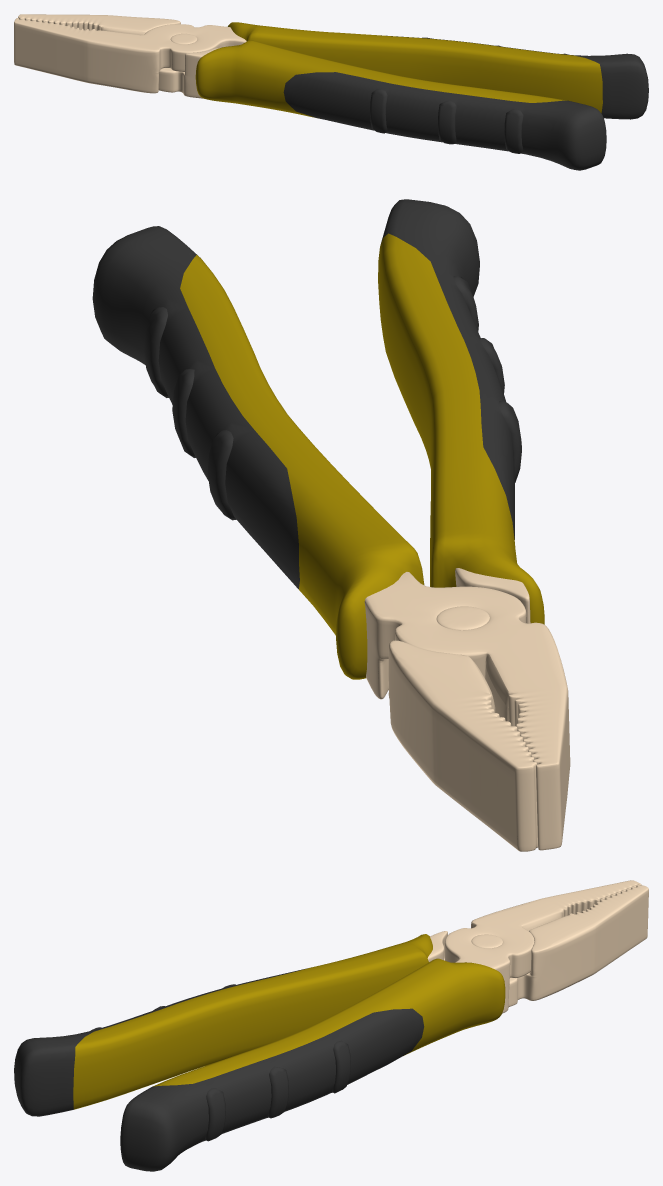
File: Pinces.fbx
The picture shows the model from 3 angles, top to bottom: view 1: azimuth 30°, elevation 25°; view 2: azimuth 150°, elevation 25°; view 3: azimuth 270°, elevation 25°; orthographic projection. The views are drawn at different scales.
Parts seen in each view (by area): view 1: handle_r, handel_l, metal_l, metal_r; view 2: handel_l, handle_r, metal_l, metal_r; view 3: handel_l, handle_r, metal_r, metal_l.
Boxes of the visible parts, bbox=[...] form: handle_r: bbox=[195, 40, 606, 170]; handel_l: bbox=[227, 22, 648, 119]; metal_l: bbox=[14, 18, 246, 93]; metal_r: bbox=[18, 14, 219, 98]; handel_l: bbox=[92, 226, 424, 679]; handle_r: bbox=[378, 199, 544, 624]; metal_l: bbox=[364, 572, 570, 850]; metal_r: bbox=[388, 568, 537, 851]; handel_l: bbox=[120, 958, 505, 1171]; handle_r: bbox=[14, 934, 432, 1116]; metal_r: bbox=[427, 885, 648, 1006]; metal_l: bbox=[444, 880, 641, 1013].
Size of the model in its own units: 657 by 93.26 by 708.
